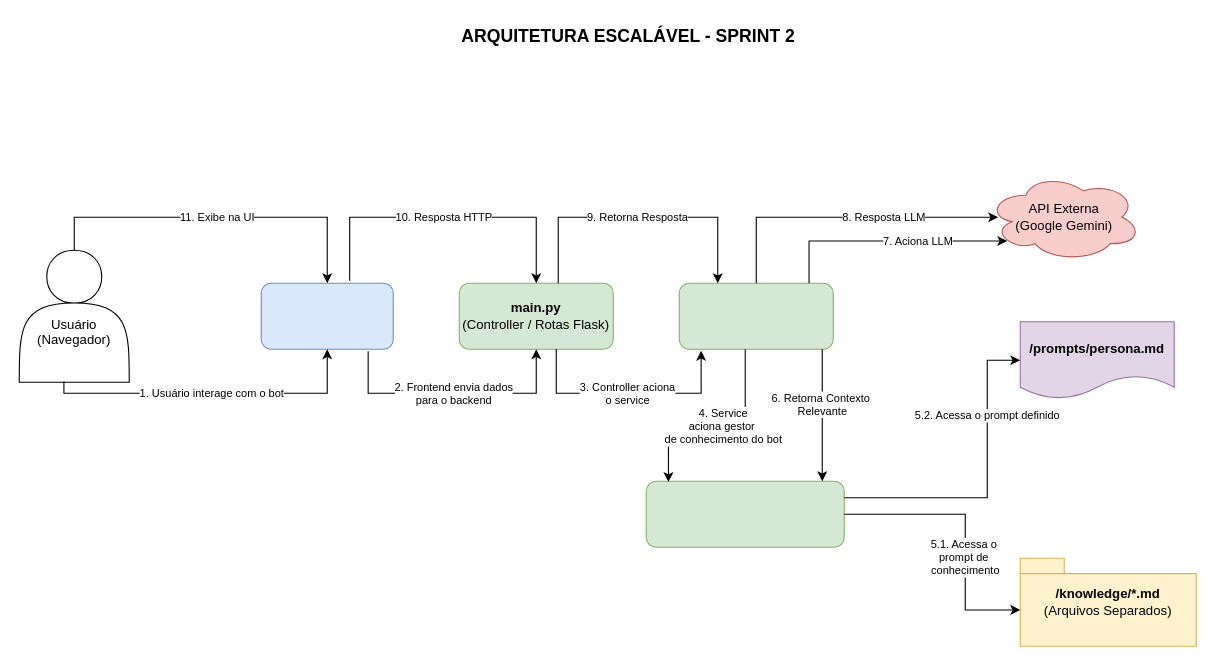
Some shapes in this 1216 by 666 pixel diagram are drawn without their labels. Each missing label, with the centre of its shape:
chat_service.py (Lógica de Negócio): (x=755, y=315)
Frontend (HTML, CSS, JS): (x=326, y=315)
knowledge_manager.py (Gerenciador de Conhecimento): (x=744, y=513)
